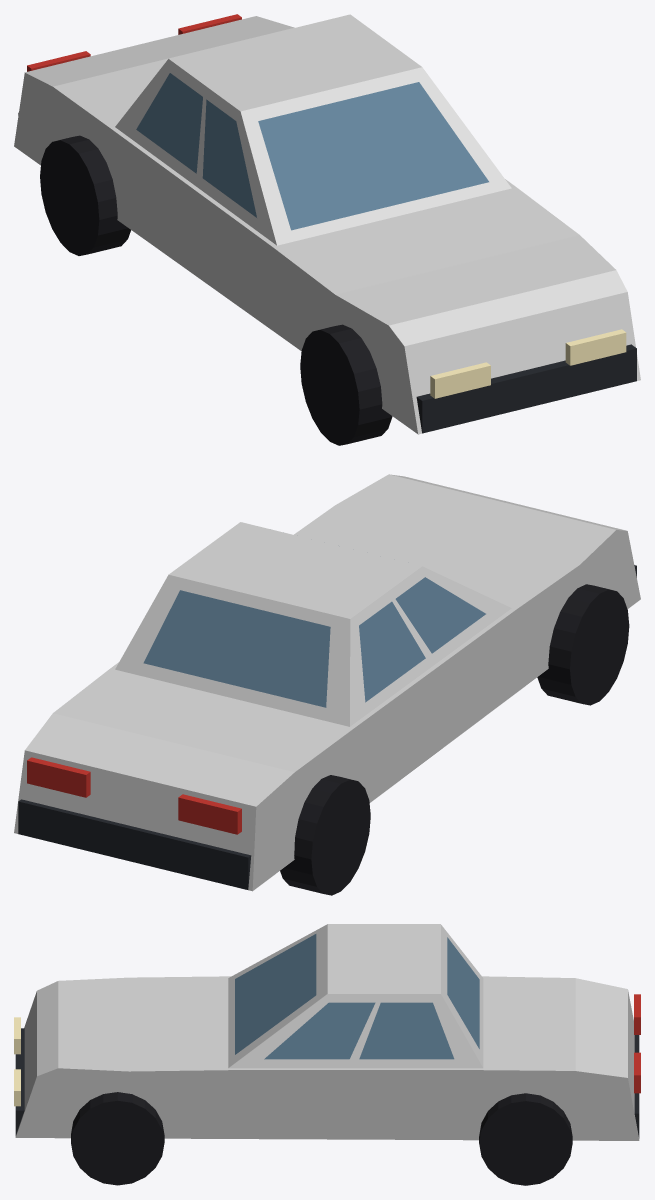
Rendered from coupe.glb.
The picture shows the model from 3 angles, top to bottom: view 1: azimuth 30°, elevation 25°; view 2: azimuth 150°, elevation 25°; view 3: azimuth 270°, elevation 25°; orthographic projection. The views are drawn at different scales.
Parts seen in each view (by area): view 1: body, cabin, glass_screen, wheel_1_L_tyre, bumper_nose, wheel_0_L_tyre, glass_side_0_L, glass_side_1_L, head_R, head_L; view 2: body, cabin, glass_back, bumper_tail, wheel_1_L_tyre, wheel_0_L_tyre, glass_side_0_L, glass_side_1_L, tail_R, tail_L; view 3: body, cabin, wheel_1_R_tyre, wheel_0_R_tyre, glass_screen, glass_side_0_R, glass_side_1_R, glass_back, bumper_nose.
Boxes of the visible parts, x1,y1,x2,y2 form: body: (14, 16, 640, 434); cabin: (115, 14, 511, 245); glass_screen: (258, 82, 488, 230); wheel_1_L_tyre: (300, 324, 392, 445); bumper_nose: (416, 344, 636, 433); wheel_0_L_tyre: (40, 135, 130, 255); glass_side_0_L: (136, 73, 202, 173); glass_side_1_L: (202, 99, 256, 217); head_R: (565, 329, 626, 365); head_L: (430, 362, 490, 398); body: (14, 474, 640, 891); cabin: (115, 522, 511, 726); glass_back: (143, 590, 330, 707); bumper_tail: (18, 799, 251, 889); wheel_1_L_tyre: (537, 584, 629, 705); wheel_0_L_tyre: (280, 775, 370, 895); glass_side_0_L: (359, 601, 425, 702); glass_side_1_L: (395, 577, 485, 653); tail_R: (27, 757, 90, 797); tail_L: (178, 794, 241, 834); body: (15, 976, 639, 1140); cabin: (228, 924, 483, 1068); wheel_1_R_tyre: (71, 1092, 164, 1185); wheel_0_R_tyre: (479, 1093, 572, 1185); glass_screen: (235, 934, 316, 1054); glass_side_0_R: (359, 1002, 454, 1059); glass_side_1_R: (264, 1002, 375, 1059); glass_back: (447, 937, 479, 1048); bumper_nose: (15, 1028, 24, 1135).
Bounding box in the file's own units: 1.74 × 1.36 × 4.42.
